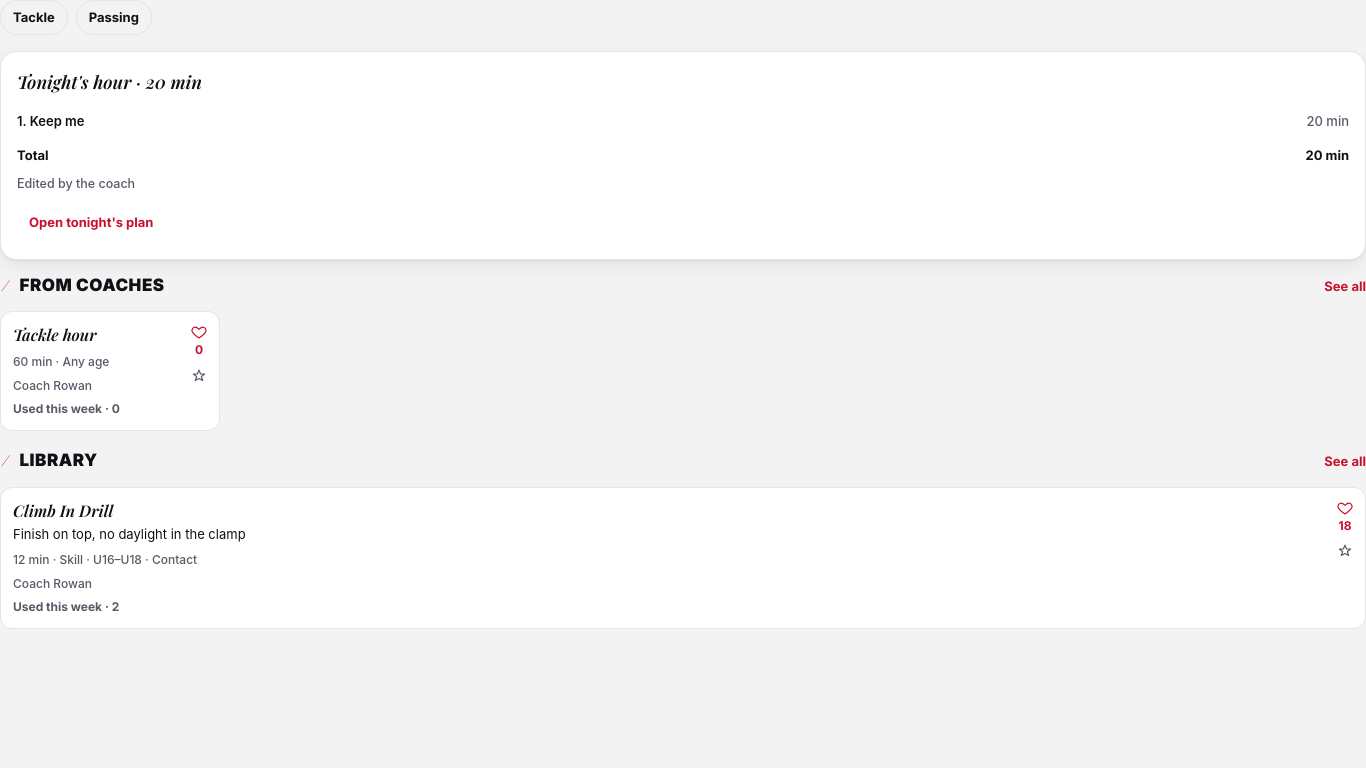
Scenario: focus chips › applying a chip over an already-edited session is gated on confirm; cancel leaves blocks untouched
Check: the text "1. Keep me" is shown, box [17, 111, 84, 131]
Click the button "Tackle". click: (34, 17)
box: [0, 0, 68, 35]
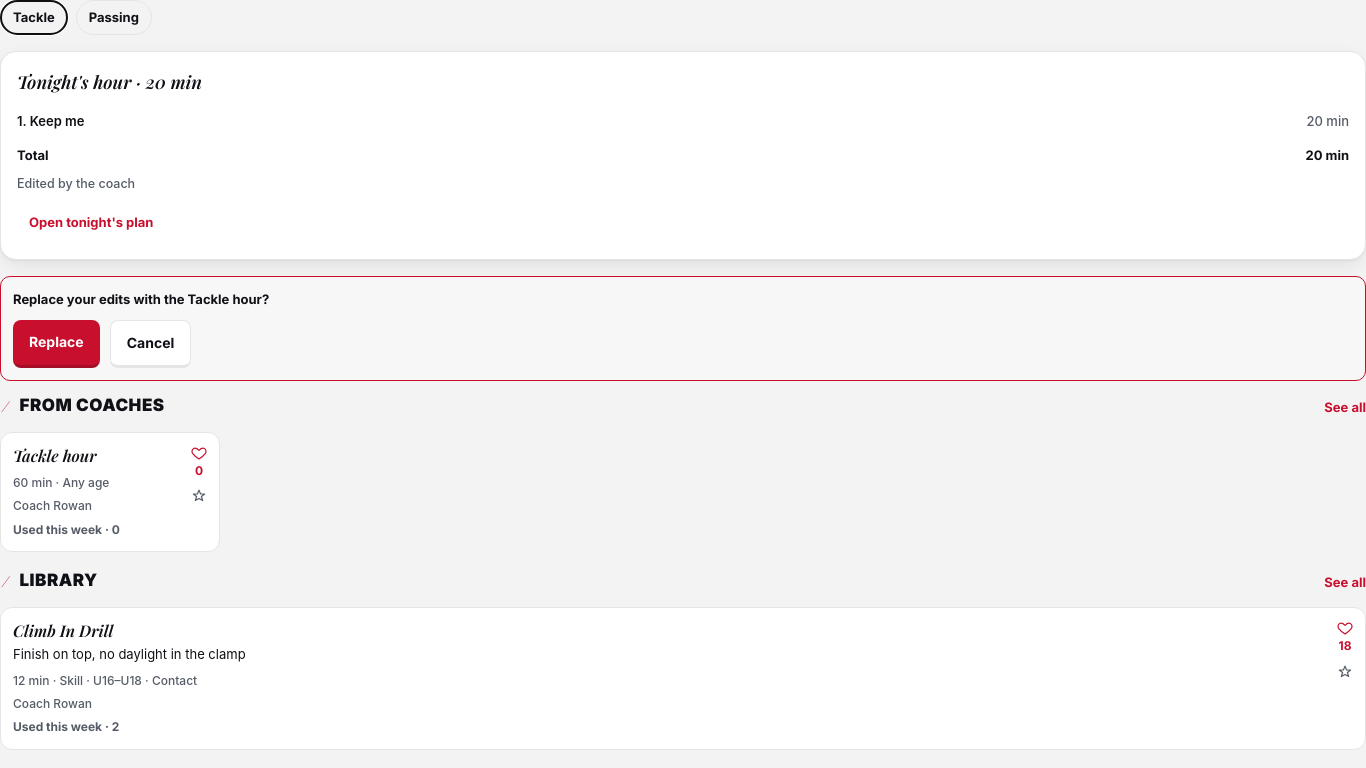
Check: the dialog shows "Replace your edits with the Tackle hour?", box [13, 291, 269, 307]
Click the button "Cancel". click: (150, 344)
box: [110, 320, 191, 368]
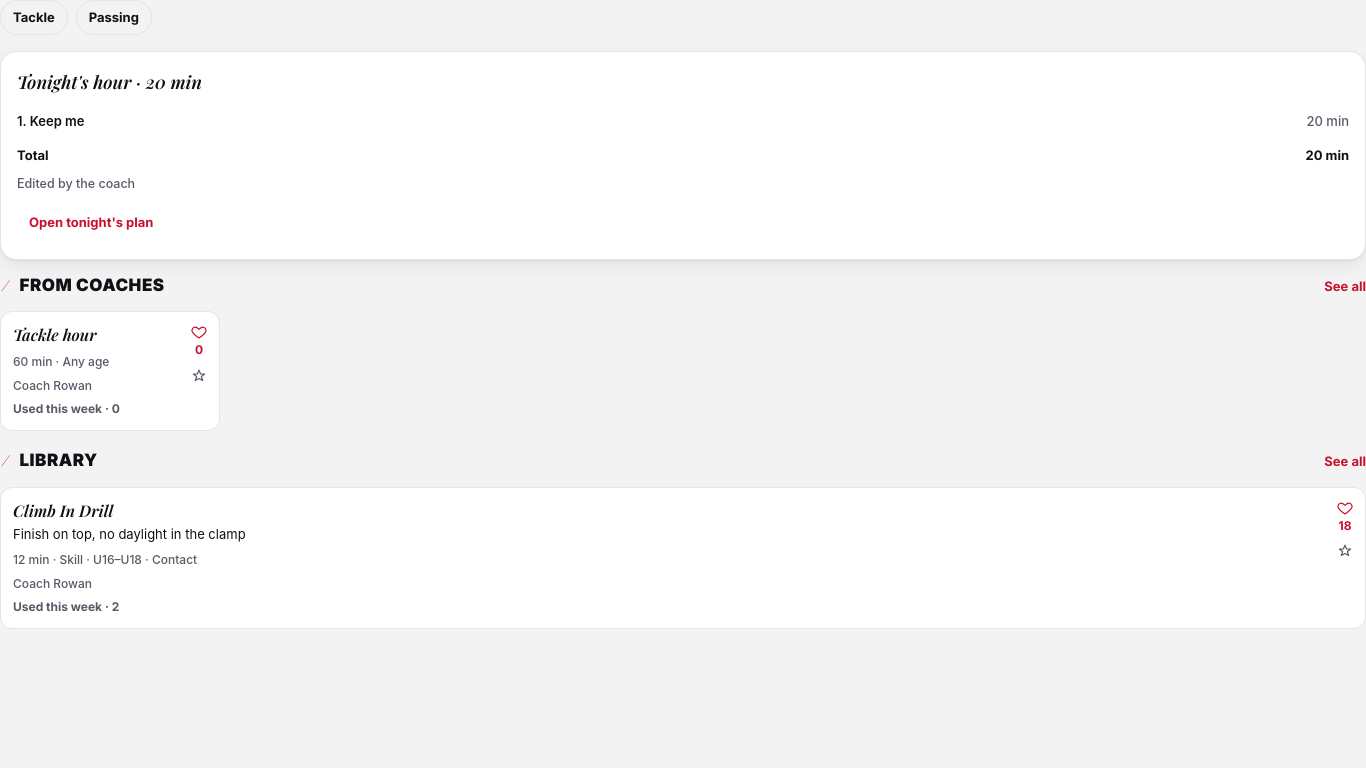
Check: the text "1. Keep me" is shown, box [17, 111, 84, 131]
Check: the dialog is gone
